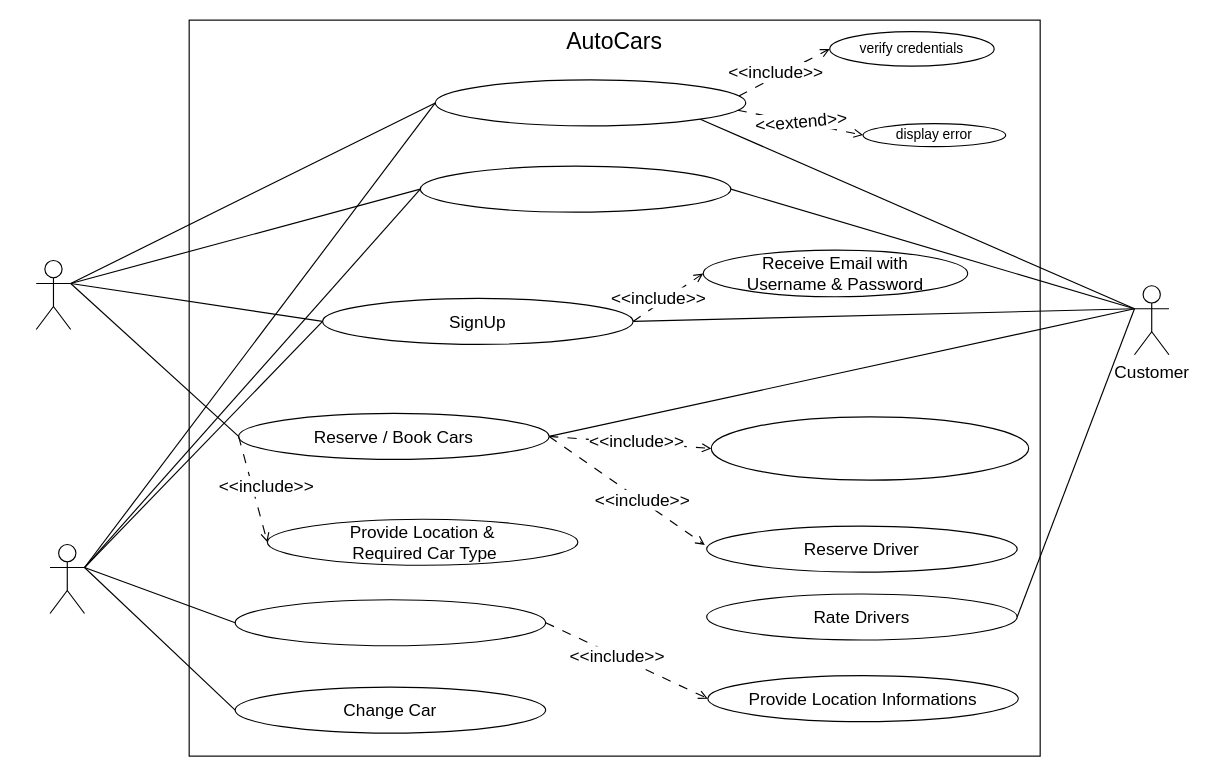
This 1209x776 diagram has some shape labels left out. Here are the shapes that lost their labels. From the top down, the centre of each, then its label:
At [590,102]: "Login".
At [575,188]: "Change Account Details".
At [53,294]: "Operator".
At [869,448]: "Receive SMS with Driver info and Vehicle info".
At [67,578]: "Driver".
At [390,622]: "Accept Reservation".
